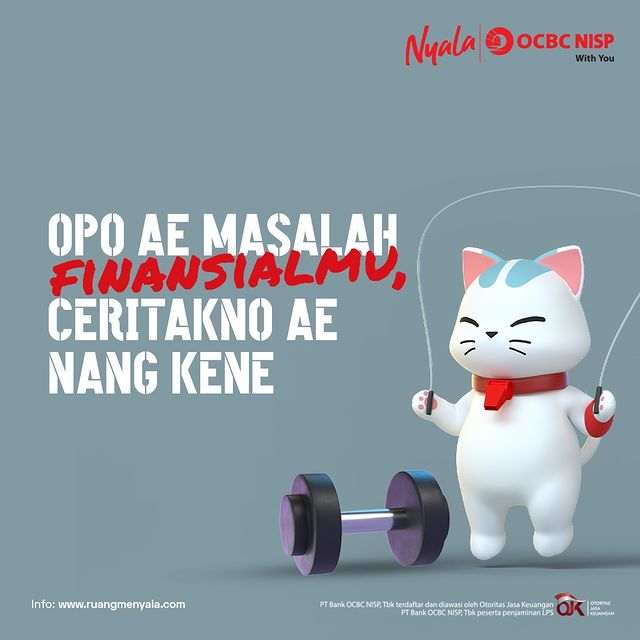ojk: (554, 589, 617, 619)
